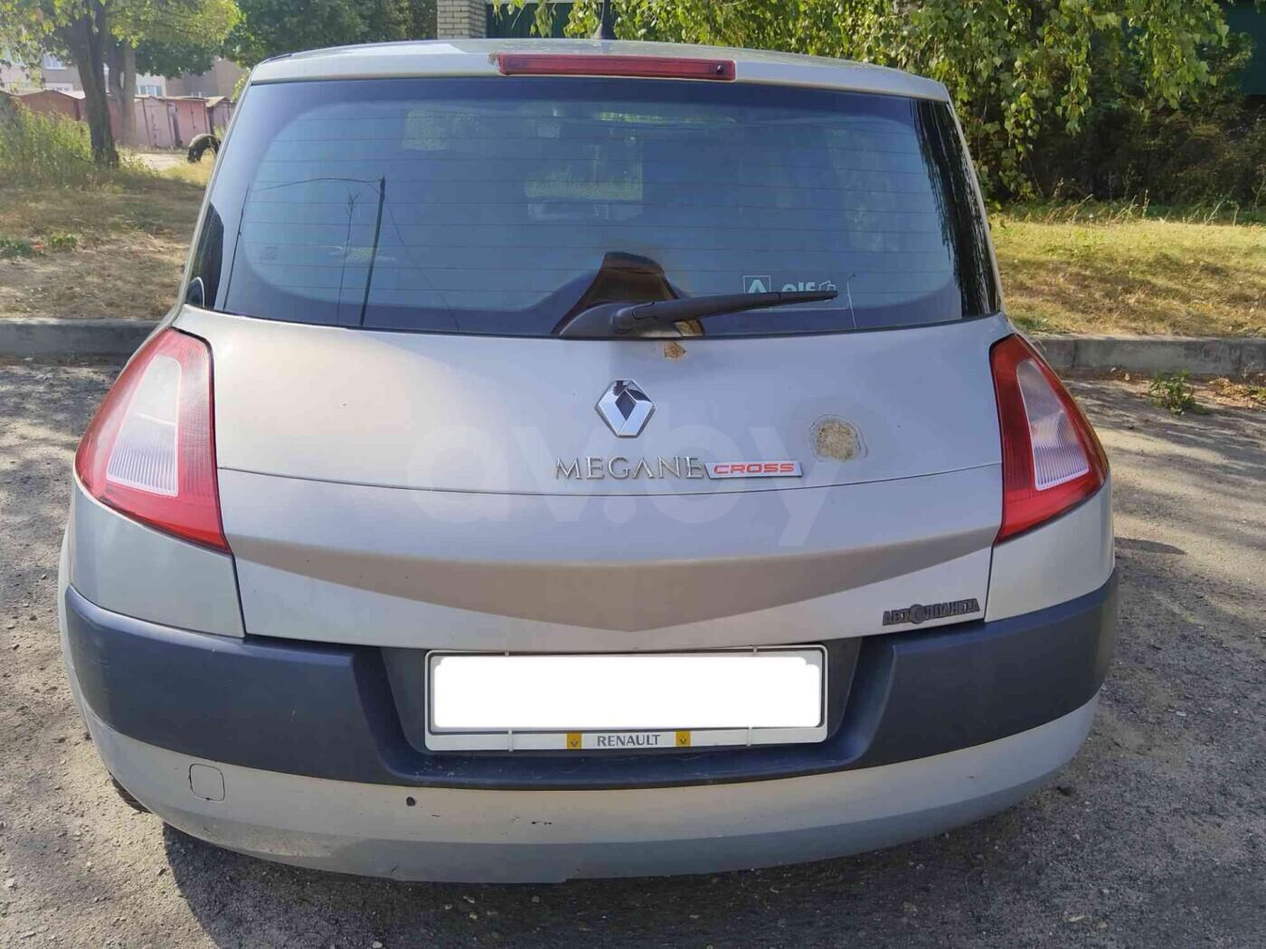Megane_2002-2006: (58, 23, 1125, 847)
